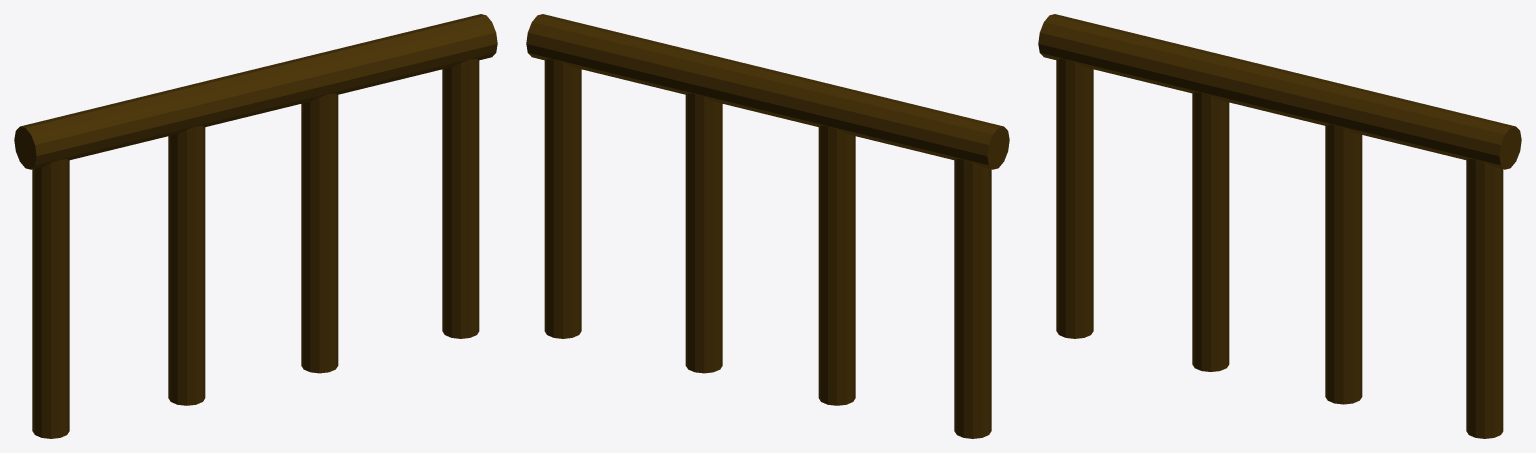
The model's file is fence.obj.
3 views of the same model, side by side, from view 1: azimuth 30°, elevation 25°; view 2: azimuth 150°, elevation 25°; view 3: azimuth 330°, elevation 25° (orthographic).
Parts seen in each view (by area): view 1: pCylinder5, pCylinder3, pCylinder4, pCylinder2, pCylinder1; view 2: pCylinder5, pCylinder3, pCylinder4, pCylinder2, pCylinder1; view 3: pCylinder5, pCylinder1, pCylinder2, pCylinder3, pCylinder4.
Boxes of the visible parts, left/top/right/bottom form: pCylinder5: left=14, top=14, right=497, bottom=169; pCylinder3: left=301, top=93, right=338, bottom=373; pCylinder4: left=442, top=59, right=479, bottom=338; pCylinder2: left=168, top=125, right=205, bottom=405; pCylinder1: left=32, top=159, right=69, bottom=438; pCylinder5: left=526, top=14, right=1009, bottom=169; pCylinder3: left=685, top=93, right=722, bottom=373; pCylinder4: left=544, top=59, right=581, bottom=338; pCylinder2: left=818, top=125, right=855, bottom=405; pCylinder1: left=954, top=159, right=991, bottom=438; pCylinder5: left=1038, top=14, right=1521, bottom=169; pCylinder1: left=1056, top=59, right=1093, bottom=338; pCylinder2: left=1192, top=92, right=1229, bottom=371; pCylinder3: left=1325, top=124, right=1362, bottom=404; pCylinder4: left=1466, top=159, right=1503, bottom=438.
Bounding box in the file's own units: 4.89 × 3.14 × 0.4103.
